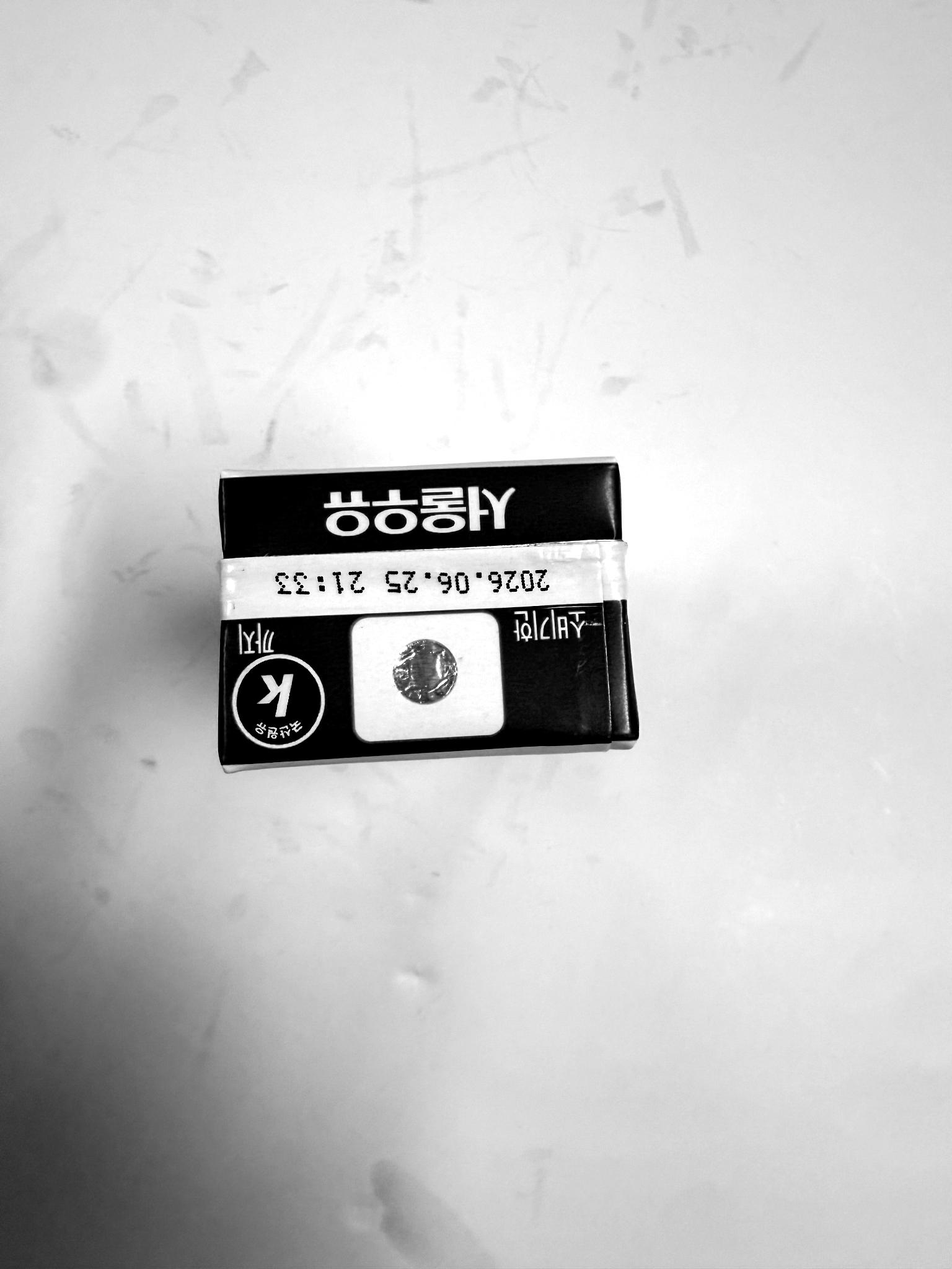milk_green: (222, 463, 636, 776)
